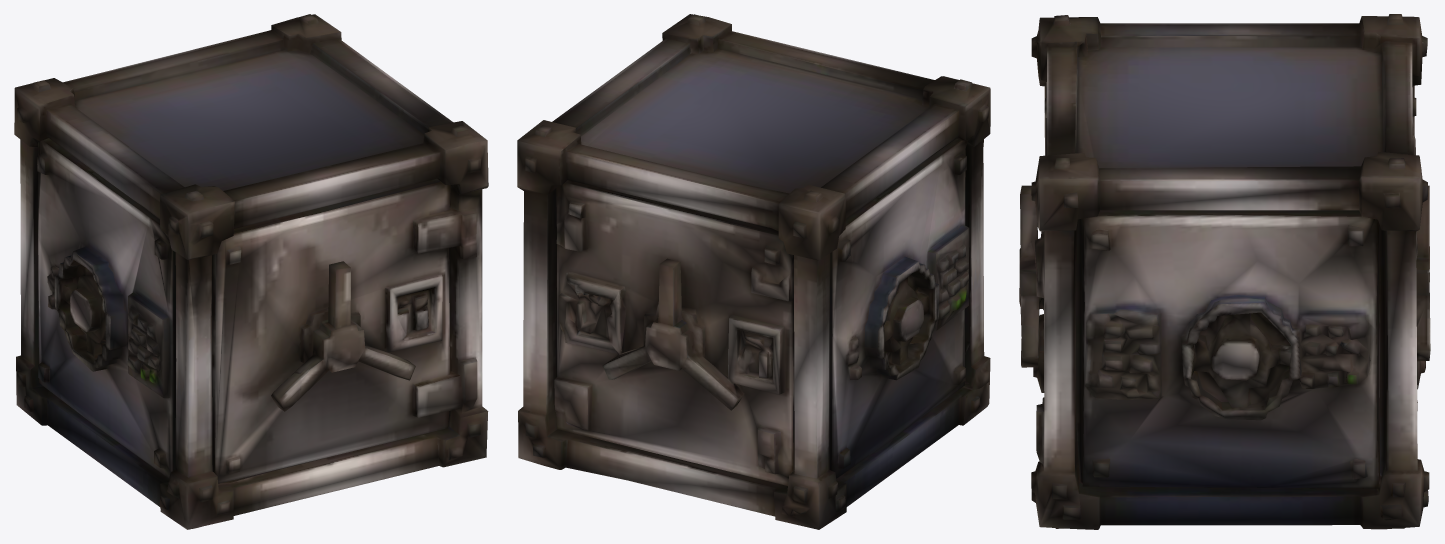
Rendered from chest-safe.glb.
The picture shows the model from 3 angles, left to right: view 1: azimuth 30°, elevation 25°; view 2: azimuth 150°, elevation 25°; view 3: azimuth 270°, elevation 25°; orthographic projection. The views are drawn at different scales.
Visible parts, largest first — view 1: material; view 2: material; view 3: material.
Part boxes in pixels (left/top/right/bottom): material: left=14, top=14, right=488, bottom=529; material: left=517, top=14, right=990, bottom=529; material: left=1019, top=14, right=1430, bottom=529.
Size of the model in its own units: 0.7357 by 0.7212 by 0.735.
Materials: 1 (1 with a texture image).
